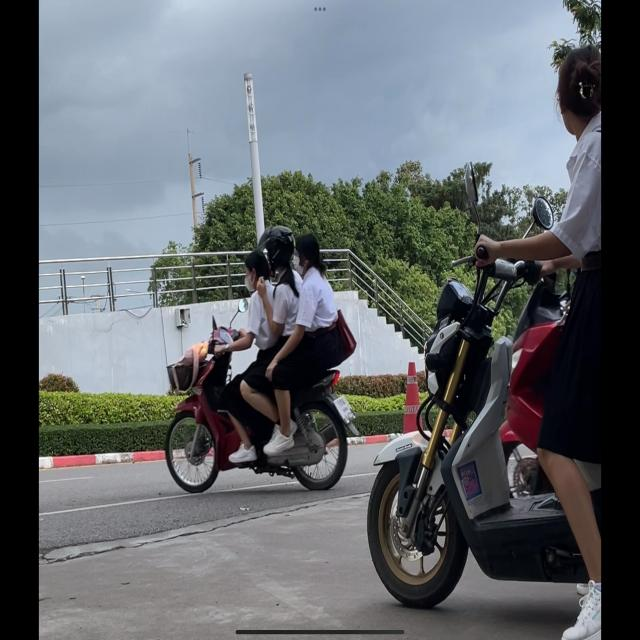no-seatbelt: (260, 225, 296, 278)
seatbelt: (554, 43, 600, 138), (243, 250, 268, 294), (296, 233, 321, 276)
